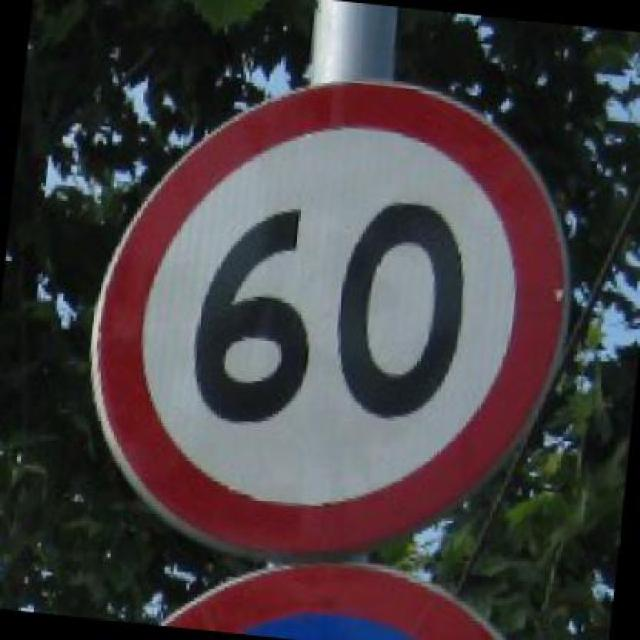Limite-60: (88, 76, 568, 556)
